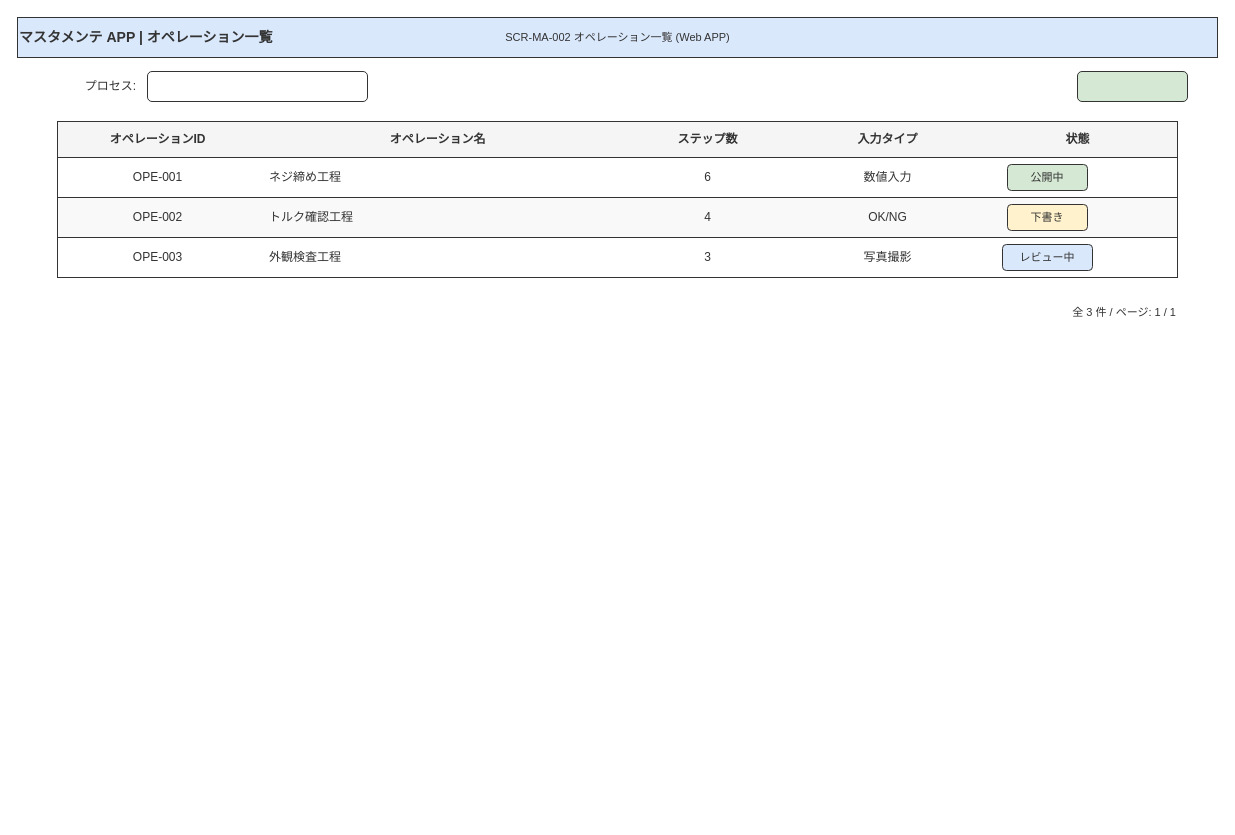
This 1235x835 diagram has some shape labels left out. The centre of each missing label's shape, as x and y in pixels:
PRC-001 組立工程A ▼: (x=257, y=86)
新規作成: (x=1132, y=86)
